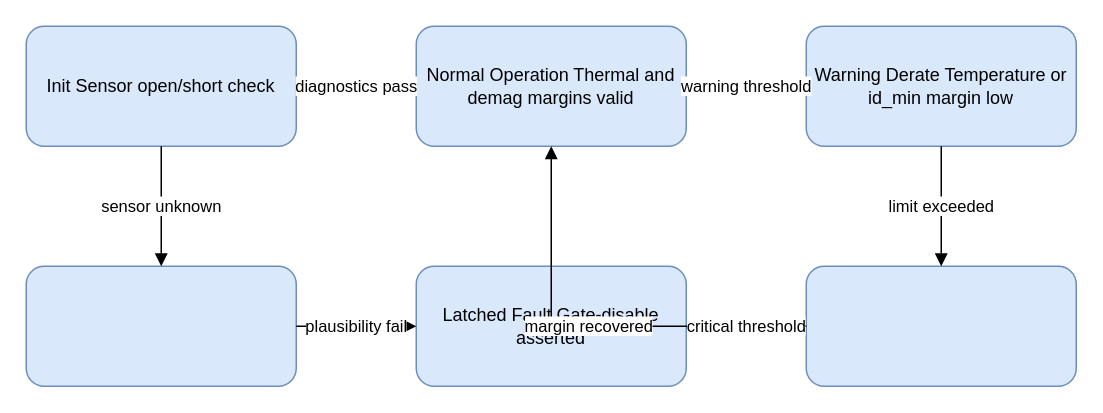
This 1103x413 diagram has some shape labels left out. Here are the shapes that lost their labels. From the top down, the box of each, then its label:
(25, 265, 296, 386): Unknown Sensor Fallback Conservative limit set
(805, 265, 1076, 386): Torque Limited Protect magnet/inverter
